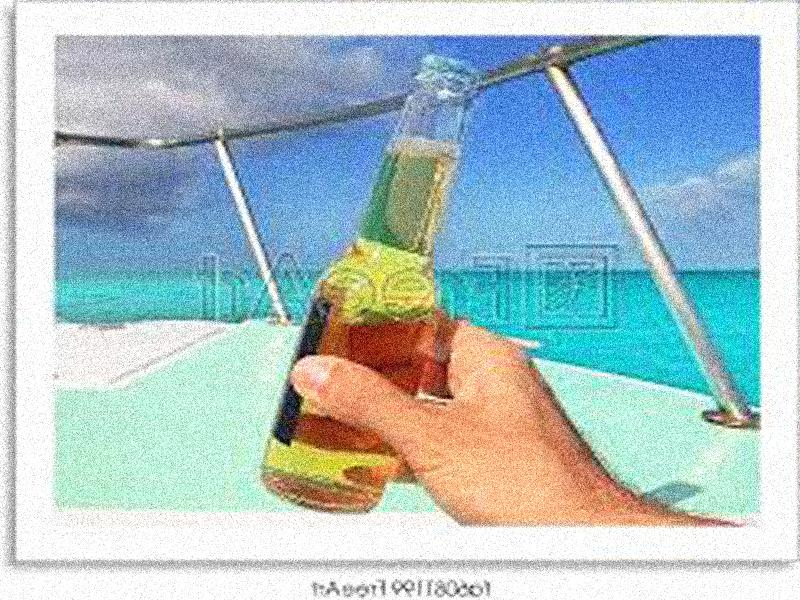Beer: (257, 58, 492, 507)
